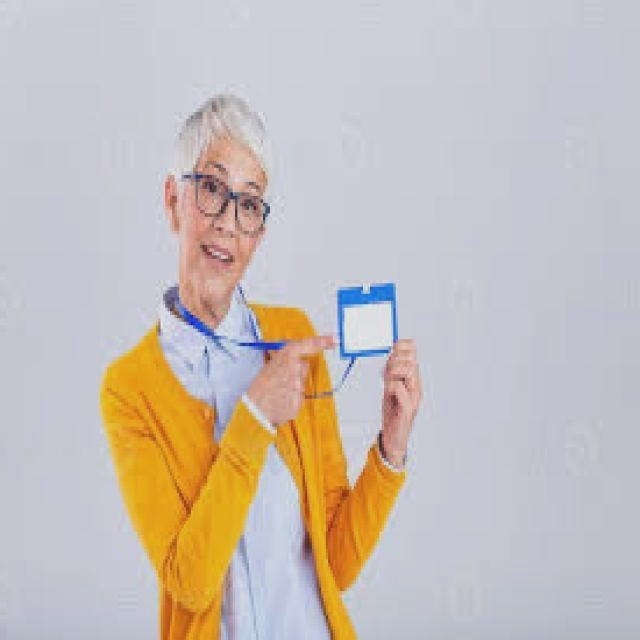ID_card: (186, 312, 264, 362)
